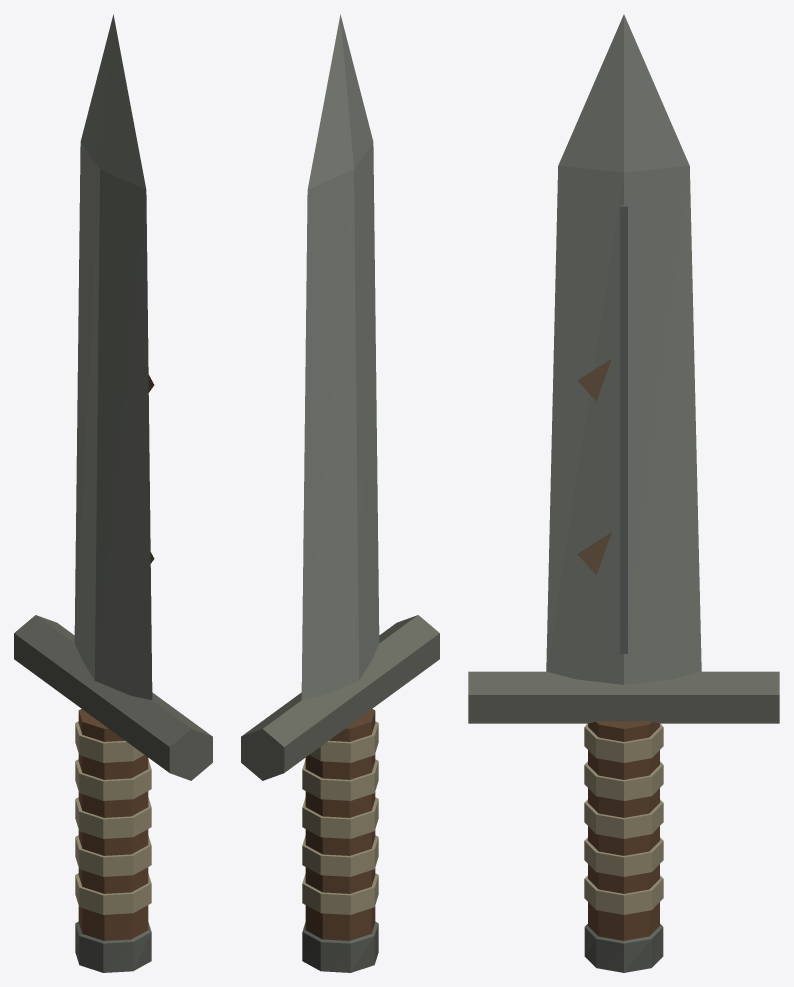
The model's file is sword_old.glb.
3 views of the same model, side by side, from view 1: azimuth 30°, elevation 25°; view 2: azimuth 150°, elevation 25°; view 3: azimuth 270°, elevation 25° (orthographic).
Parts seen in each view (by area): view 1: sword_old; view 2: sword_old; view 3: sword_old.
Part boxes in pixels (x1=…): sword_old: x1=14, y1=14, x2=212, y2=972; sword_old: x1=241, y1=14, x2=439, y2=972; sword_old: x1=468, y1=14, x2=779, y2=972.
Size of the model in its own units: 0.066 by 0.882 by 0.26.
